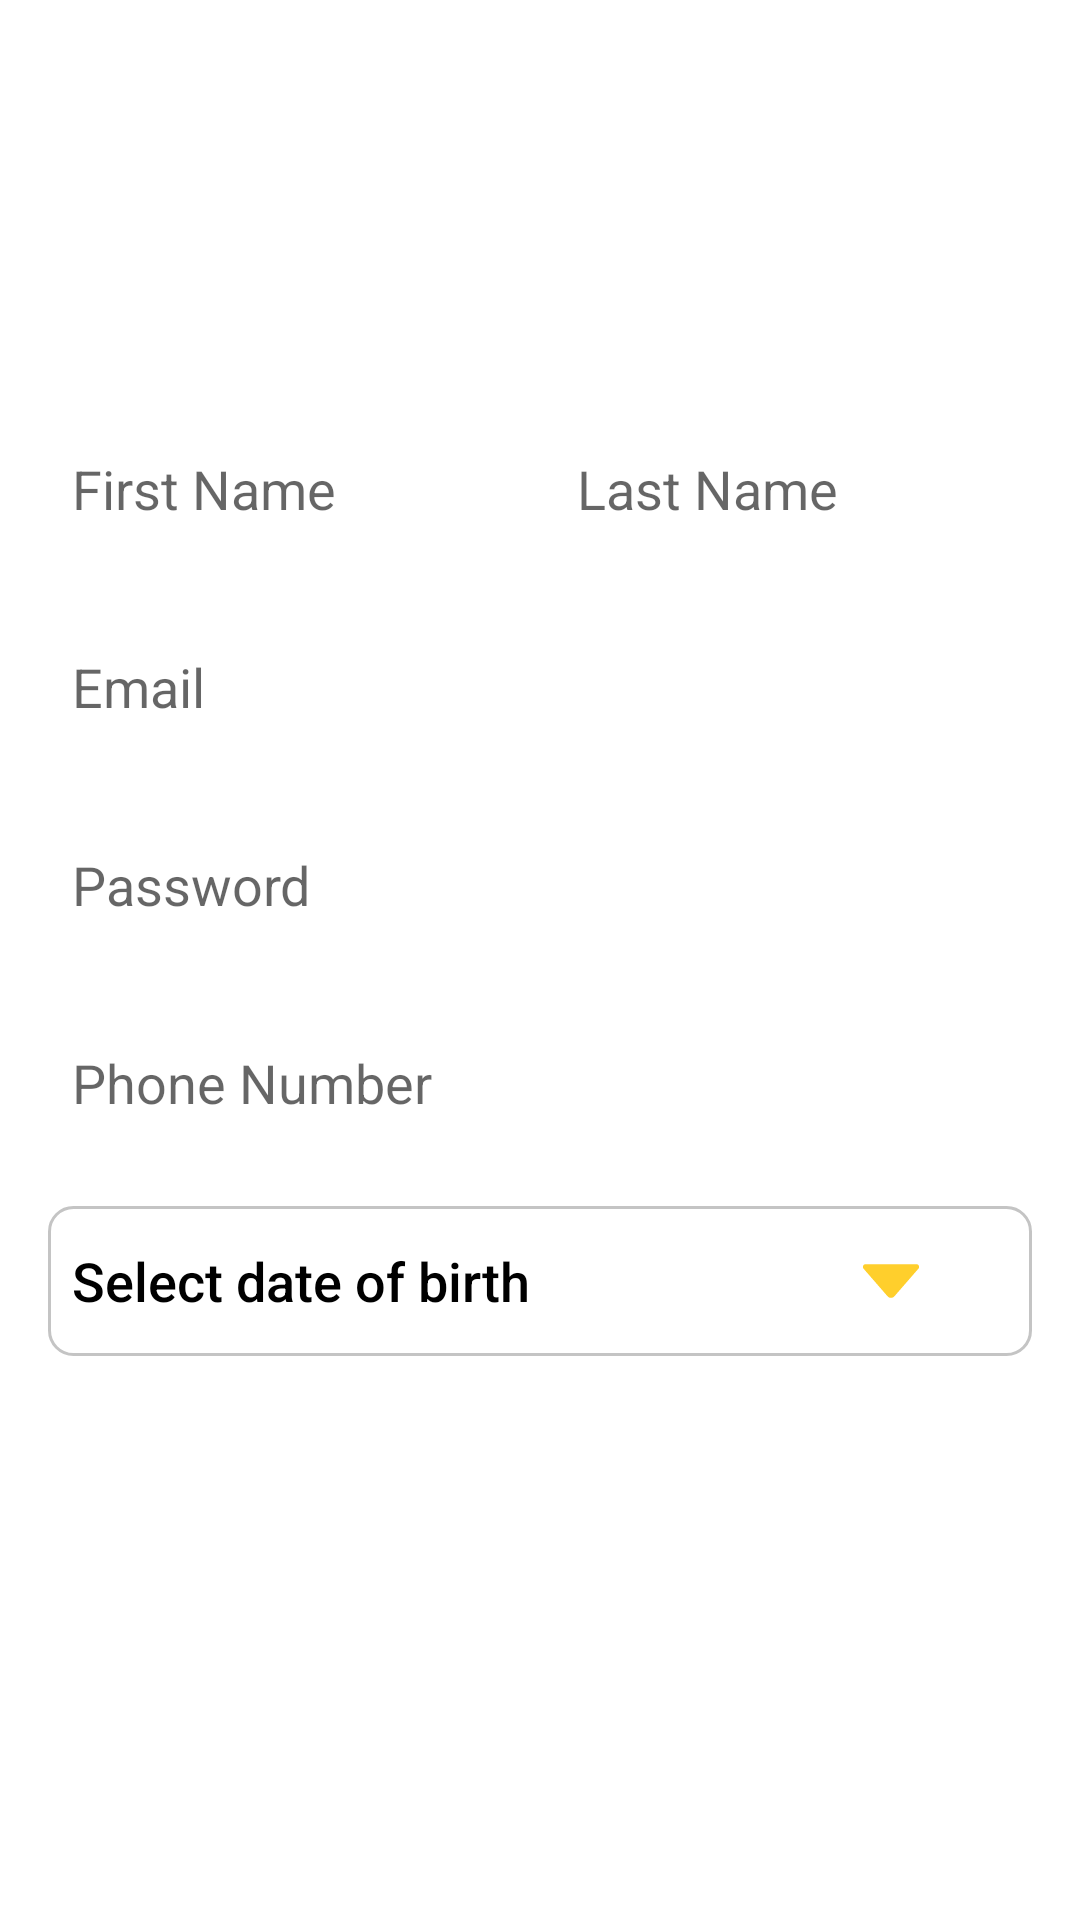

Where icons sit on this 1080 × 1920 app screen, as (x1, y1, x2, y2):
down arrow: (863, 1264, 919, 1298)
